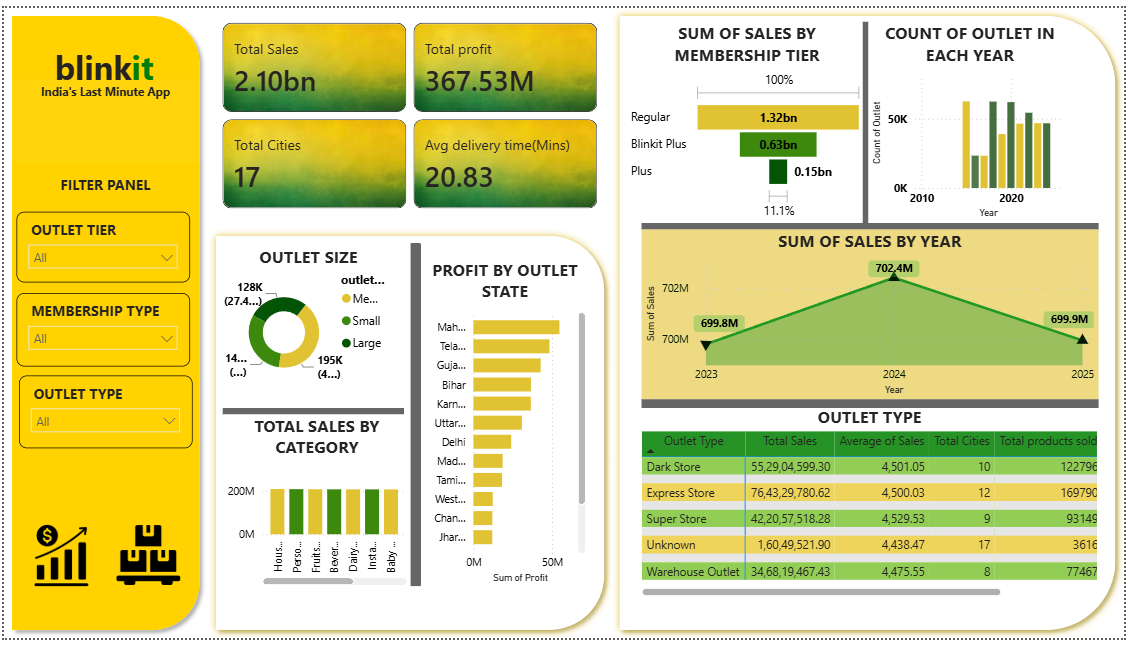

What the dashboard file says about the page in this screenshot:
{"tool":"powerbi","page":{"name":"Page 1","canvas":[1280,720],"ordinal":0},"visuals":[{"type":"shape","box":[0,0,232.5,720],"z":0},{"type":"textbox","box":[15.1,37,197.6,105.7],"z":1000},{"type":"textbox","box":[0,81,231.9,96.1],"z":2000},{"type":"cardVisual","fields":{"Data":["db_blinkit blinkit_data.Total Sales","db_blinkit blinkit_data.Total profit","db_blinkit blinkit_data.Total Cities","db_blinkit blinkit_data.Avg delivery time(Mins)"]},"box":[232.5,0,462.5,247.5],"z":3000},{"type":"shape","box":[232.3,251.9,462.2,468.3],"z":4000},{"type":"donutChart","title":"OUTLET SIZE","fields":{"Category":["db_blinkit blinkit_data.outlet_size"],"Y":["CountNonNull(db_blinkit blinkit_data.outlet_size)"],"Series":["db_blinkit blinkit_data.outlet_size"]},"box":[249.7,271.7,196.2,174.3],"z":5000},{"type":"barChart","title":" PROFIT BY OUTLET STATE","fields":{"Category":["db_blinkit blinkit_data.outlet_state"],"Y":["Sum(db_blinkit blinkit_data.Profit)"]},"box":[476.2,285,193.8,376.2],"z":6000},{"type":"columnChart","title":"TOTAL SALES BY CATEGORY","fields":{"Category":["db_blinkit blinkit_data.category"],"Y":["Sum(db_blinkit blinkit_data.Sales)"]},"box":[249.7,463.8,215.4,200.3],"z":7000},{"type":"shape","box":[463.8,268.8,12.5,392.5],"z":8000},{"type":"shape","box":[774.3,217.1,12.9,458.6],"z":9000},{"type":"shape","box":[250,457.1,207.1,7.1],"z":10000},{"type":"shape","box":[695,0,585,720],"z":11000},{"type":"funnel","title":"SUM OF SALES BY MEMBERSHIP TIER","fields":{"Category":["db_blinkit blinkit_data.membership_type"],"Y":["Sum(db_blinkit blinkit_data.Sales)"]},"box":[711.4,15.7,275.7,231.4],"z":12000},{"type":"lineChart","title":"SUM OF SALES BY YEAR","fields":{"Y":["Sum(db_blinkit blinkit_data.Sales)"],"Category":["db_blinkit blinkit_data.order_date.Variation.Date Hierarchy.Year"]},"box":[728.8,253.1,522.1,194.4],"z":13000},{"type":"pivotTable","title":"OUTLET TYPE","fields":{"Rows":["db_blinkit blinkit_data.outlet_type"],"Values":["db_blinkit blinkit_data.Total Sales","Avg(db_blinkit blinkit_data.Sales)","db_blinkit blinkit_data.Total Cities","CountNonNull(db_blinkit blinkit_data.product_name)","db_blinkit blinkit_data.Total profit"]},"box":[725,453.8,530,222.5],"z":14000},{"type":"slicer","title":"OUTLET TIER","fields":{"Values":["db_blinkit blinkit_data.outlet_location_tier"]},"box":[14.7,232.3,198.1,80.7],"z":15000},{"type":"slicer","fields":{"Values":["db_blinkit blinkit_data.membership_type"]},"box":[14.7,325.3,198.1,84.4],"z":16000},{"type":"slicer","fields":{"Values":["db_blinkit blinkit_data.outlet_type"]},"box":[17.1,419.4,198.1,83.2],"z":17000},{"type":"columnChart","title":"COUNT OF OUTLET IN EACH YEAR","fields":{"Category":["db_blinkit blinkit_data.outlet_establishment_year"],"Y":["CountNonNull(db_blinkit blinkit_data.outlet_establishment_year)"]},"box":[987.5,16.2,233.8,230],"z":18000},{"type":"shape","box":[981.2,15,6.2,231.2],"z":19000},{"type":"shape","box":[728.8,246.2,522.5,7.5],"z":20000},{"type":"shape","box":[728.8,447.5,522.5,10],"z":21000},{"type":"image","box":[30,565,71.2,120],"z":22000},{"type":"image","box":[128.8,580,72.5,90],"z":23000},{"type":"textbox","box":[17.5,186.2,197.5,31.2],"z":24000}]}

Visuals, with their boxes in screenshot pixels (x1, y1, x2, y2), scaled from the page's 1280x720 canvas onto the 1130x647 screenshot:
shape: 0, 0, 205, 646
textbox: 13, 33, 188, 128
textbox: 0, 73, 205, 159
cardVisual - db_blinkit blinkit_data.Total Sales x db_blinkit blinkit_data.Total profit: 205, 0, 614, 222
shape: 205, 226, 613, 646
"OUTLET SIZE" donutChart: 220, 244, 394, 401
" PROFIT BY OUTLET STATE" barChart: 420, 256, 591, 594
"TOTAL SALES BY CATEGORY" columnChart: 220, 417, 411, 597
shape: 409, 242, 420, 594
shape: 684, 195, 695, 607
shape: 221, 411, 404, 417
shape: 614, 0, 1129, 646
"SUM OF SALES BY MEMBERSHIP TIER" funnel: 628, 14, 871, 222
"SUM OF SALES BY YEAR" lineChart: 643, 227, 1104, 402
"OUTLET TYPE" pivotTable: 640, 408, 1108, 608
"OUTLET TIER" slicer: 13, 209, 188, 281
slicer - db_blinkit blinkit_data.membership_type: 13, 292, 188, 368
slicer - db_blinkit blinkit_data.outlet_type: 15, 377, 190, 452
"COUNT OF OUTLET IN EACH YEAR" columnChart: 872, 15, 1078, 221
shape: 866, 13, 872, 221
shape: 643, 221, 1105, 228
shape: 643, 402, 1105, 411
image: 26, 508, 89, 616
image: 114, 521, 178, 602
textbox: 15, 167, 190, 195
